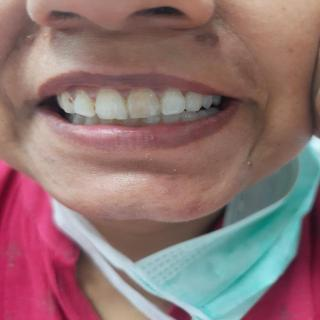cavities: (58, 92, 75, 109)
plaque: (129, 86, 159, 115), (102, 89, 128, 114), (162, 86, 184, 112), (78, 89, 99, 113), (185, 88, 202, 108)
stains: (120, 97, 135, 115), (85, 98, 101, 114)
